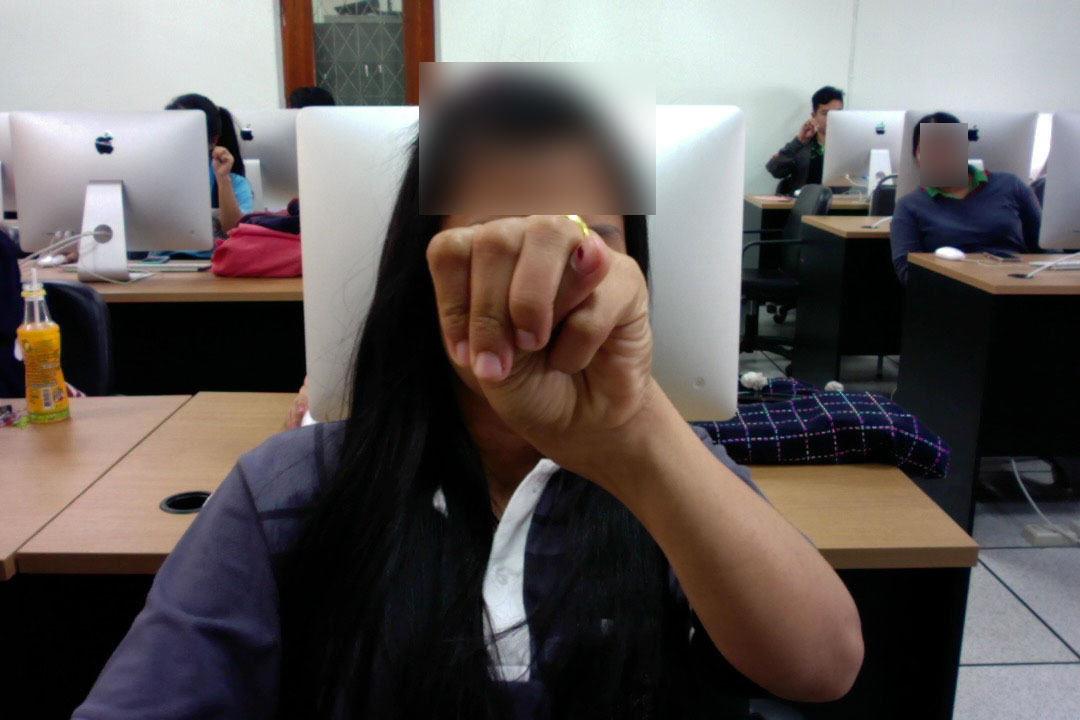mor: (418, 209, 663, 467)
